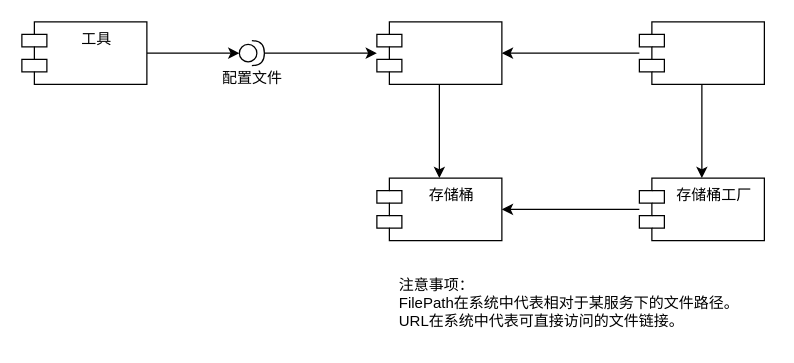
This 794x363 diagram has some shape labels left out. The box of each missing label's shape, as (x1, y1, x2, y2) in pixels:
多存储桶: (376, 21, 502, 84)
存储桶管理器: (638, 21, 764, 84)
